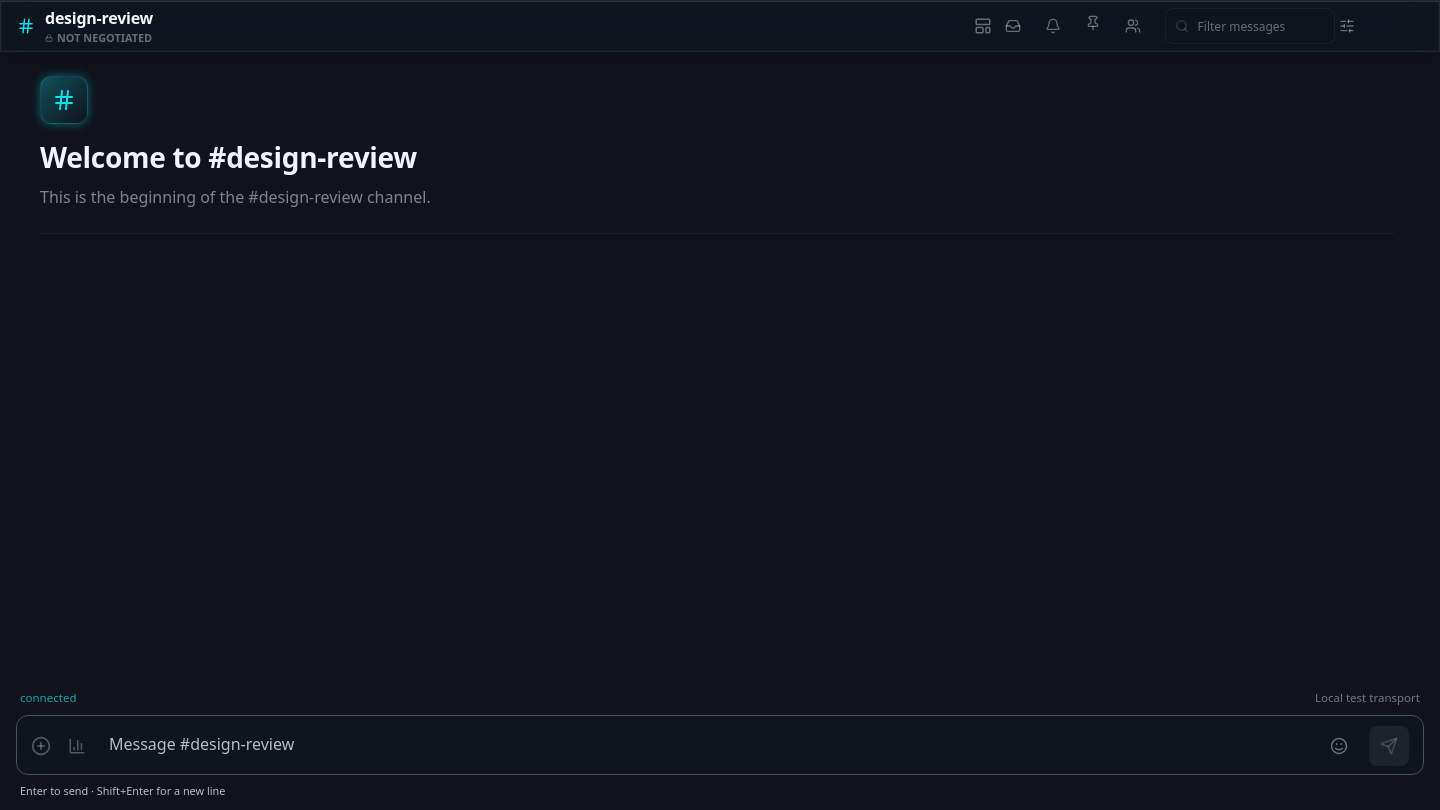
recoverable unsent messages › retries the original request without overwriting a newer draft (DM: false)
Step 1. Type "first message" into the text box named "Message Input" → [705, 745], box [101,722,1309,768]
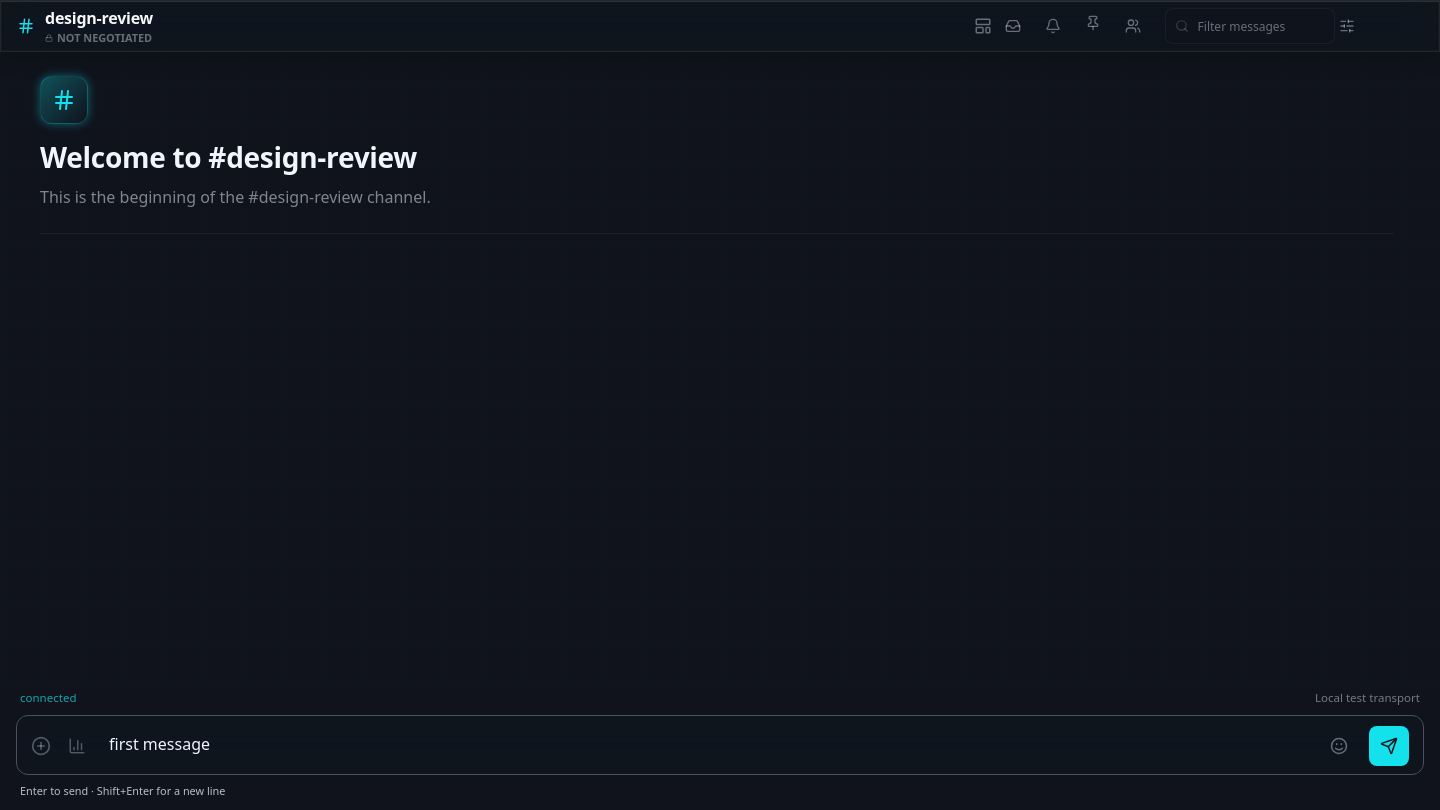
Step 2. Click the button named "Send Message" → [1389, 746], box [1369,726,1409,766]
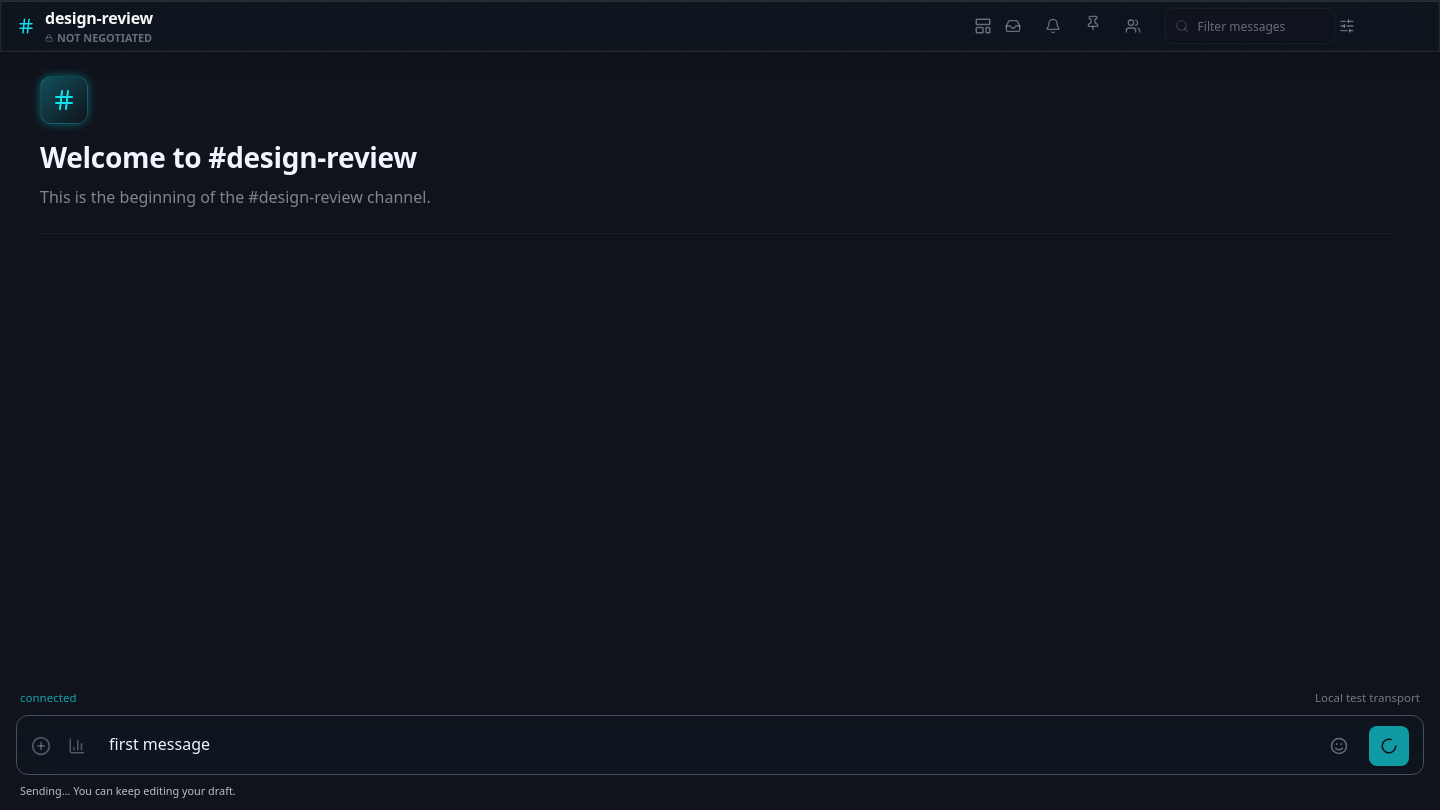
Step 3. Replace the text in the text box named "Message Input" with "second message" → [705, 745], box [101,722,1309,768]
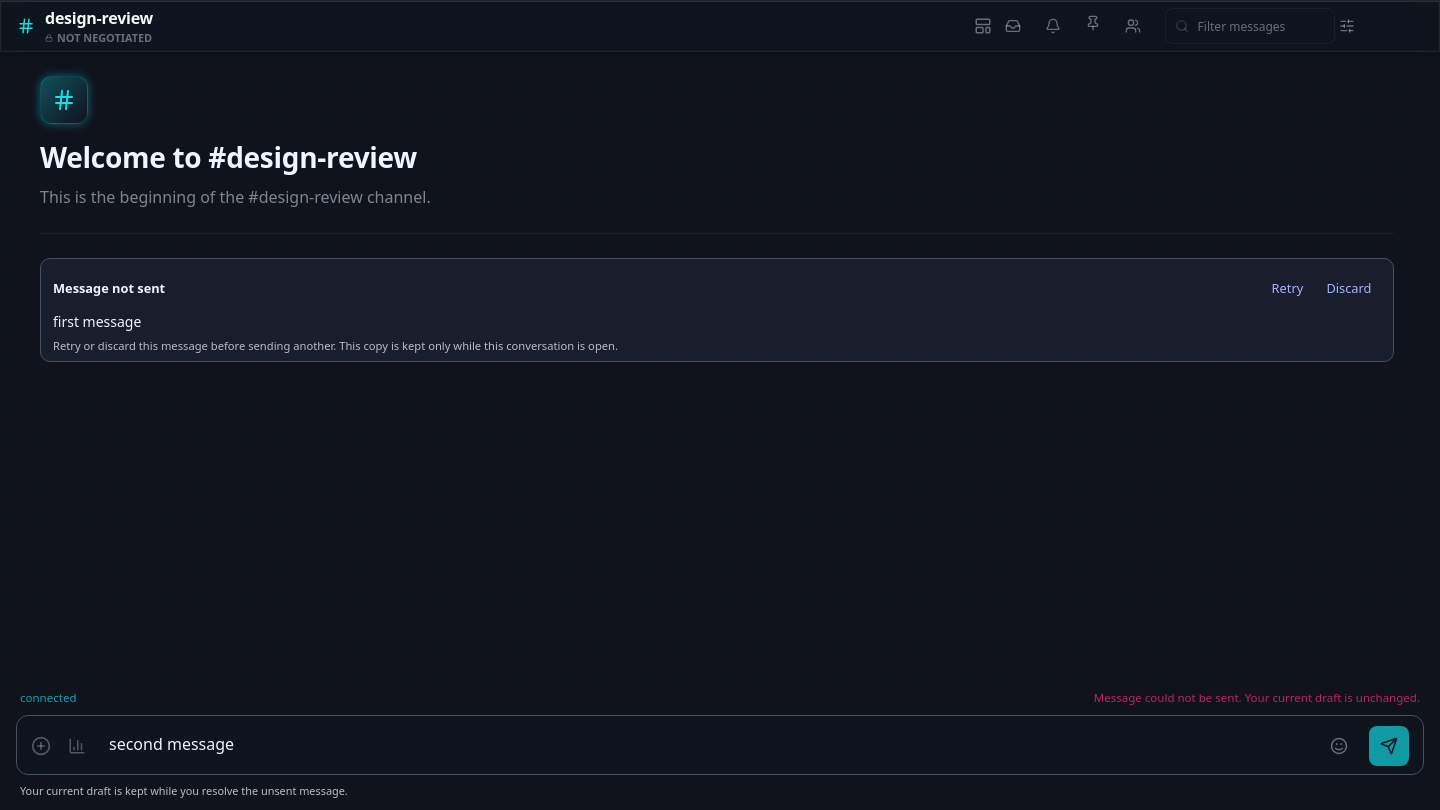
Result: the element named "Unsent message" shows "first message" at [53,312,141,331]
Step 4. Click the button with aria-label "Retry unsent message" → [1287, 289], box [1262,267,1313,311]
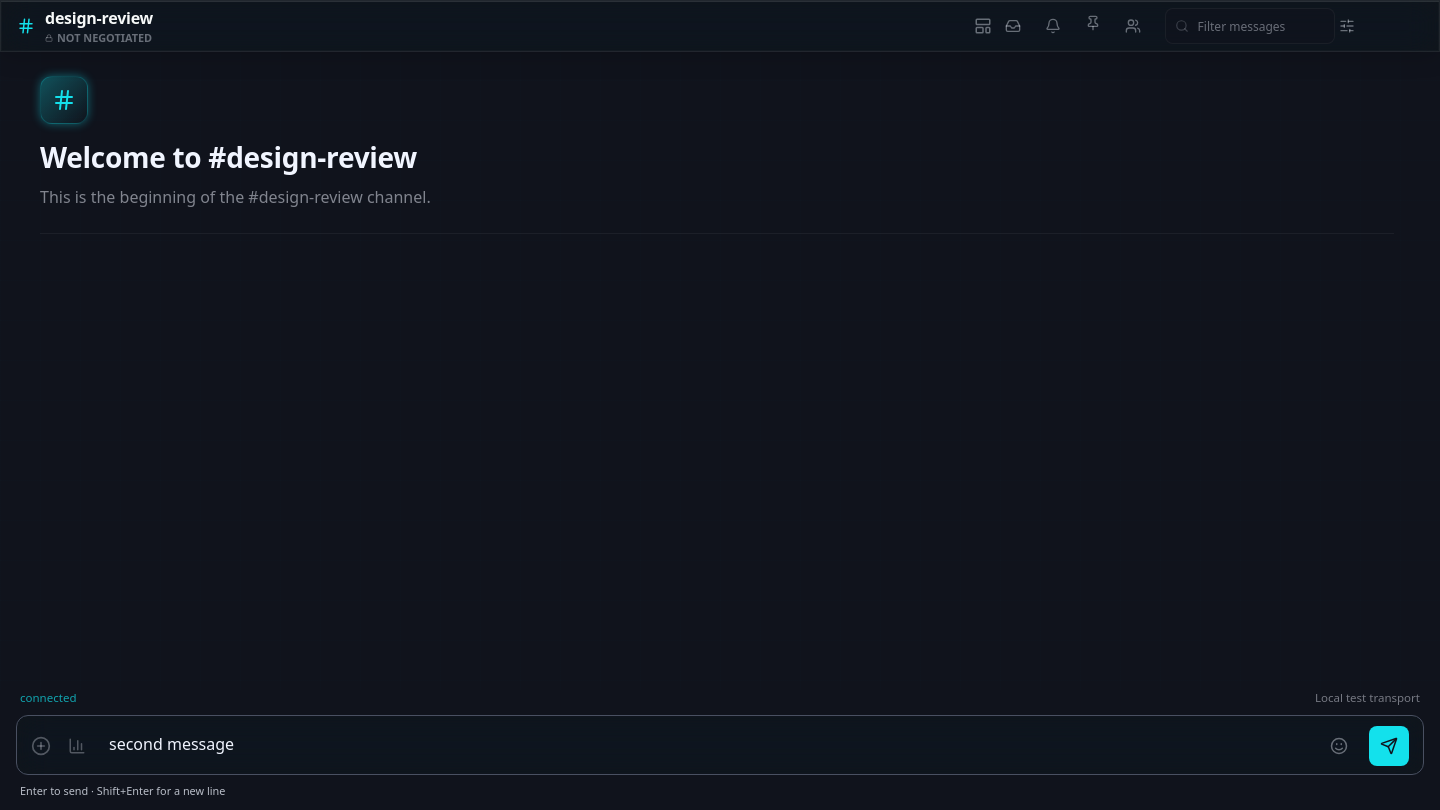
Result: the text "unsent message" is gone
Result: the button named "Send Message" is enabled at [1369,726,1409,766]
